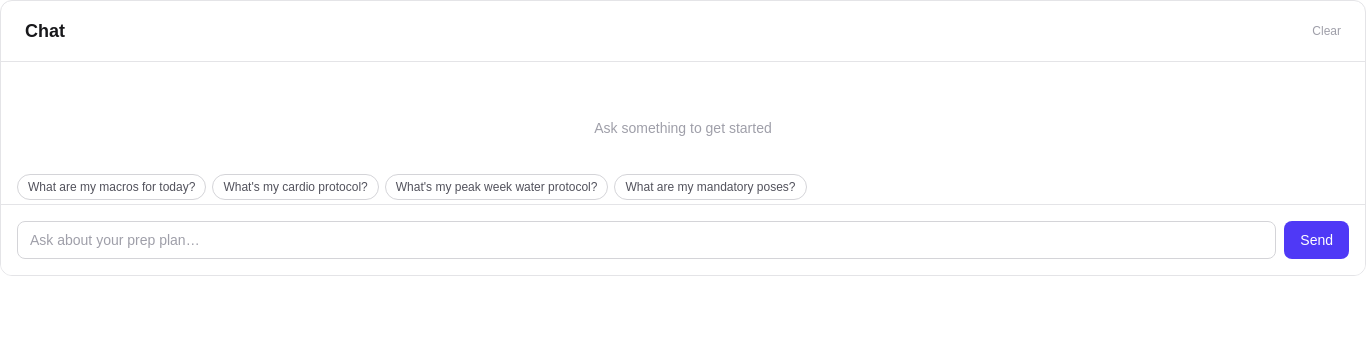
Scenario: Task 9 (extended): Quick-prompt chips › should send the chip text as a user message when a chip is clicked
Click the button with test id "quick-prompt-chip" at coordinates (112, 187), box [17, 174, 206, 200]
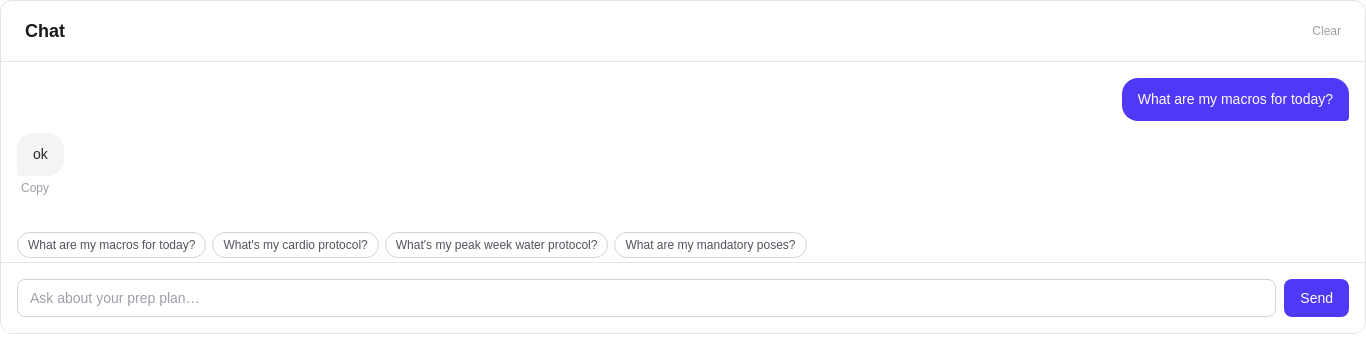
Now the element showing "What are my macros for today?" is shown, box [1122, 78, 1349, 121]
